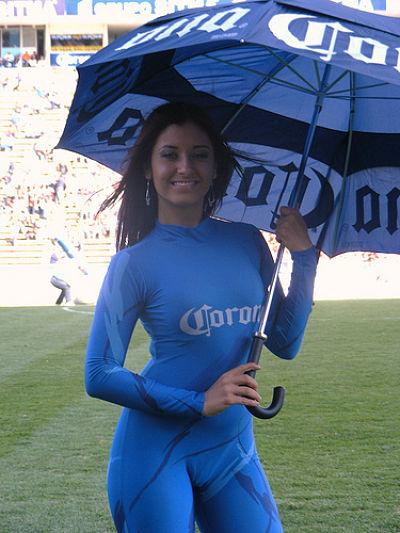person: (85, 101, 319, 533)
